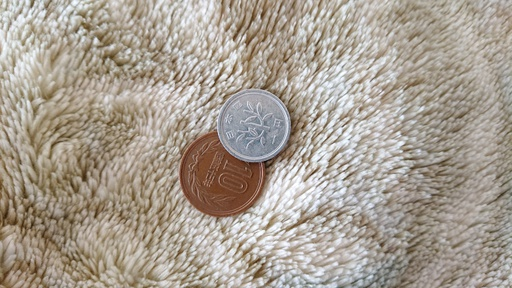10yen: (179, 130, 265, 216)
1yen: (217, 89, 290, 162)
